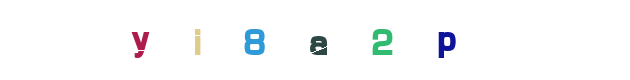2: (339, 0, 419, 80)
8: (222, 0, 302, 80)
A: (275, 0, 355, 80)
I: (221, 0, 301, 80)
P: (346, 0, 426, 80)
Y: (100, 0, 180, 80)
